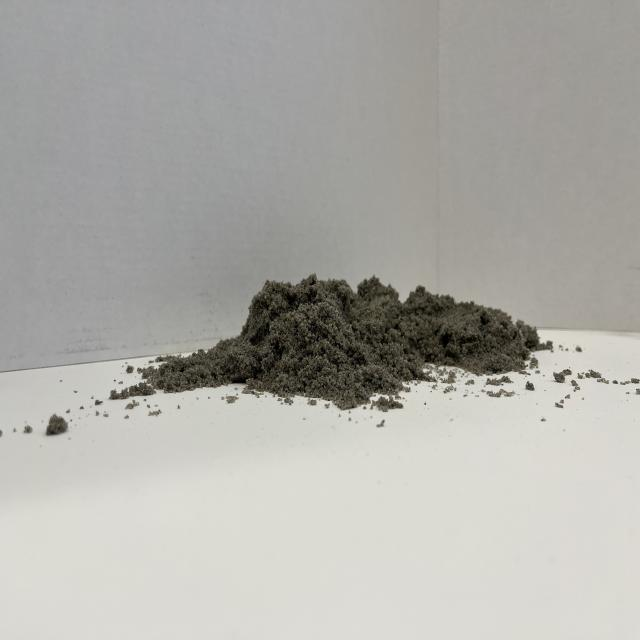sand: (166, 256, 522, 410)
